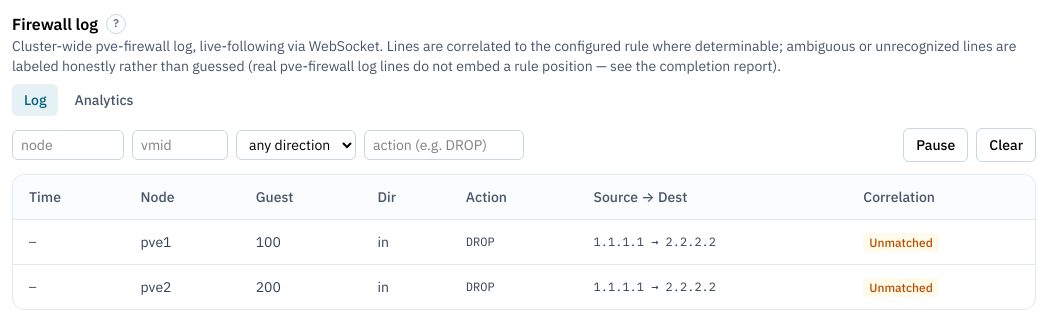
FwLogViewer › filters the rendered rows by node
Expected: the text "pve2" is shown, [125, 264, 240, 309]
Type "pve1" into the field named "Filter by node".
click(68, 145); type("pve1")  # box [12, 130, 124, 160]
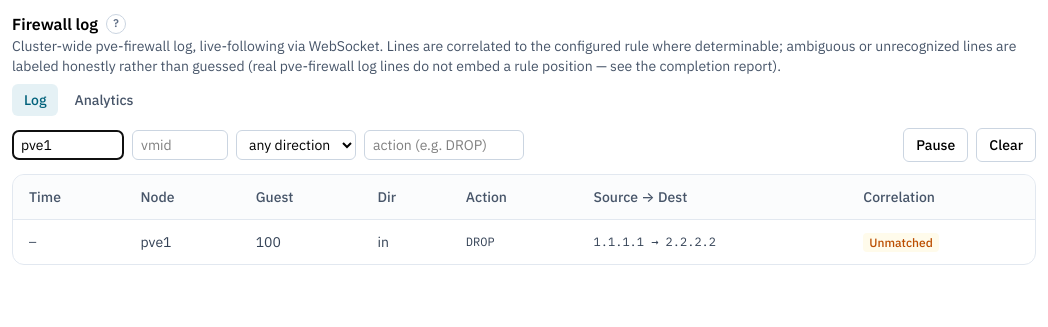
Expected: the text "pve1" is shown, [125, 220, 240, 264]
Result: the text "pve2" is gone
